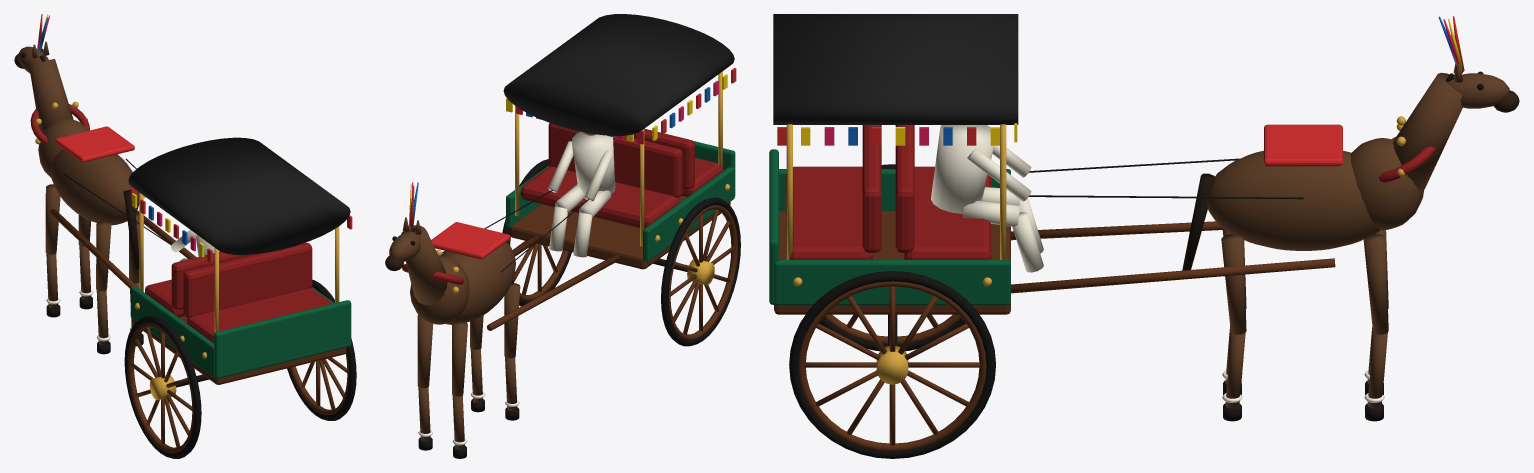
Rendered from tonga.glb.
3 views of the same model, side by side, from view 1: azimuth 30°, elevation 25°; view 2: azimuth 150°, elevation 25°; view 3: azimuth 270°, elevation 25° (orthographic). The views are drawn at different scales.
Parts seen in each view (by area): view 1: Cylinder.004, Cube.001, Cube.007, Sphere.009, Cube.006, Cube.002, Torus, Cone.002, Cube.049, Torus.001, Cube, Torus.002 (+19 smaller); view 2: Cylinder.004, Cube, Cube.005, Cube.004, Sphere.009, Cube.002, Torus, Cone.002, Cone, Cube.049, Sphere.010, Torus.001 (+26 smaller); view 3: Cylinder.004, Sphere.009, Cube.003, Cube.006, Torus.002, Cube.004, Sphere.010, Cone.002, Torus.003, Cone, Cube, Cube.049 (+20 smaller).
Part boxes in pixels (<box>): Cylinder.004: <box>128,137,350,254</box>; Cube.001: <box>214,300,351,378</box>; Cube.007: <box>183,242,312,318</box>; Sphere.009: <box>50,148,139,225</box>; Cube.006: <box>187,288,332,342</box>; Cube.002: <box>130,286,214,377</box>; Torus: <box>124,316,201,458</box>; Cone.002: <box>29,59,73,132</box>; Cube.049: <box>55,126,134,162</box>; Torus.001: <box>127,323,193,452</box>; Cube: <box>134,316,346,384</box>; Torus.002: <box>287,279,356,420</box>; Cylinder.004: <box>503,14,734,135</box>; Cube: <box>510,195,730,269</box>; Cube.005: <box>548,122,682,197</box>; Cube.004: <box>520,166,678,228</box>; Sphere.009: <box>440,242,515,324</box>; Cube.002: <box>643,167,734,261</box>; Torus: <box>661,197,740,346</box>; Cone.002: <box>401,225,447,305</box>; Cone: <box>572,131,615,196</box>; Cube.049: <box>431,222,510,259</box>; Sphere.010: <box>410,256,469,324</box>; Torus.001: <box>669,205,737,339</box>; Cylinder.004: <box>773,14,1018,124</box>; Sphere.009: <box>1207,150,1380,250</box>; Cube.003: <box>774,260,1010,304</box>; Cube.006: <box>786,166,872,259</box>; Torus.002: <box>789,271,995,458</box>; Cube.004: <box>904,166,991,259</box>; Sphere.010: <box>1350,138,1423,230</box>; Cone.002: <box>1393,72,1462,191</box>; Torus.003: <box>798,281,986,451</box>; Cone: <box>931,125,993,213</box>; Cube: <box>774,211,1010,314</box>; Cube.049: <box>1264,124,1342,166</box>.
Bounding box in the file's own units: 1.76 × 2.72 × 4.75.
